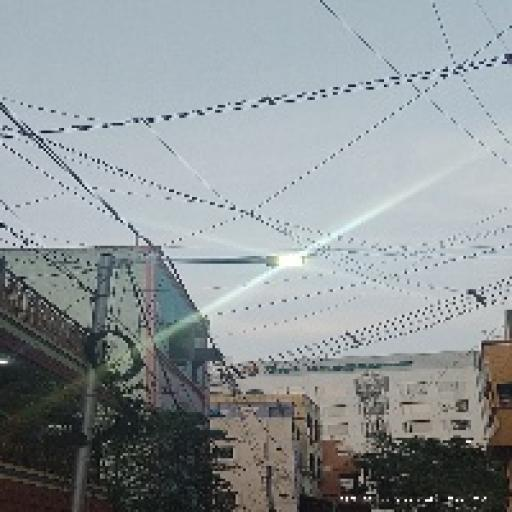Working: (253, 245, 311, 276)
